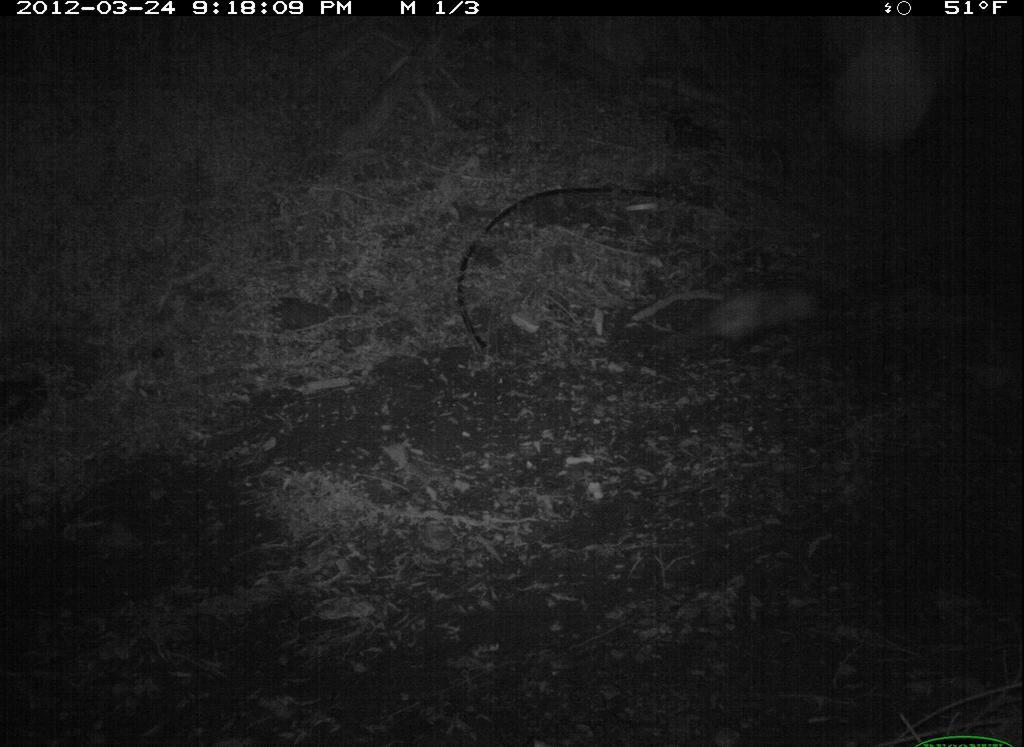opossum: (673, 276, 841, 346)
